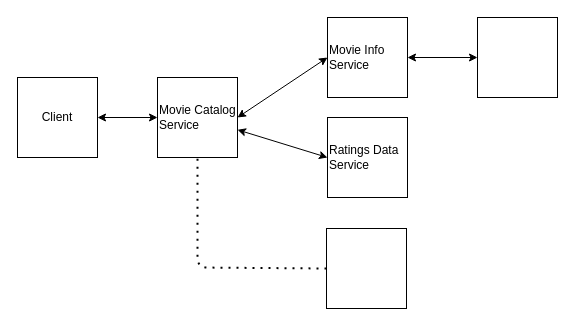
Some shapes in this 575 by 326 pixel diagram are drawn without their labels. The shapes that lost their labels are listed below. From the top down, each one's box as (x1, y1, x2, y2) in pixels, then its label:
(476, 16, 558, 98): MovieDB Api (External)
(326, 228, 406, 308): Discovery Server (Eureka)
